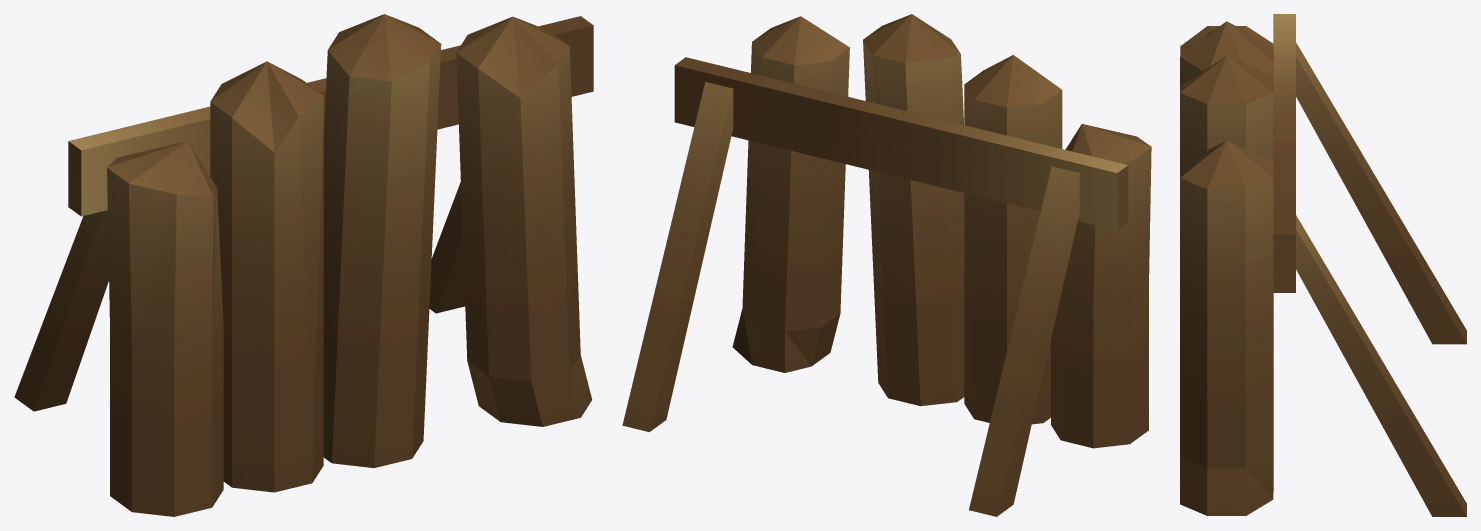
File: pack04_fences_13.fbx
3 renders of one model, left to right at view 1: azimuth 30°, elevation 25°; view 2: azimuth 150°, elevation 25°; view 3: azimuth 270°, elevation 25°, orthographic. The views are drawn at different scales.
Visible parts, largest first — view 1: Medium_Fence_06; view 2: Medium_Fence_06; view 3: Medium_Fence_06.
Part boxes in pixels (x1=…): Medium_Fence_06: x1=14, y1=14, x2=593, y2=516; Medium_Fence_06: x1=622, y1=14, x2=1151, y2=516; Medium_Fence_06: x1=1180, y1=14, x2=1466, y2=516.
Size of the model in its own units: 33.83 by 26.87 by 18.57.
Materials: 1 (1 with a texture image).
